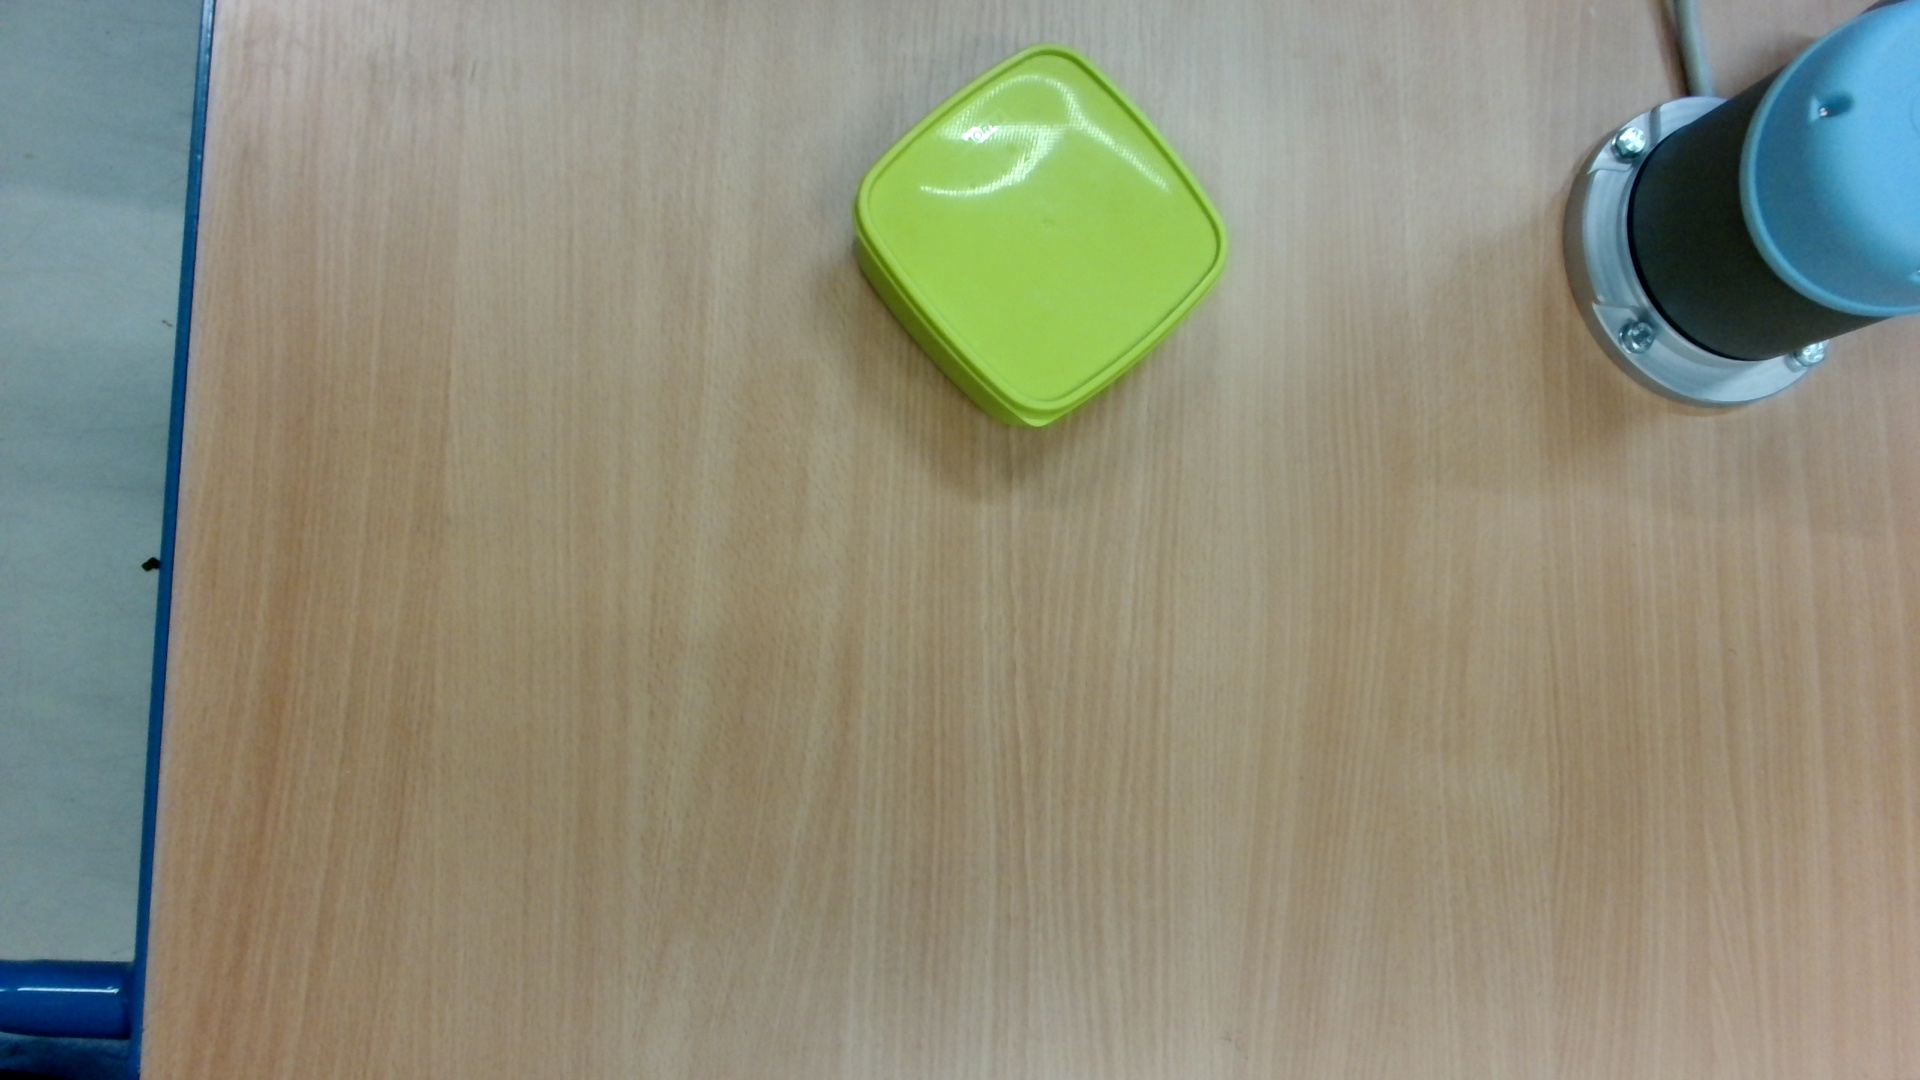Box: (849, 40, 1240, 438)
